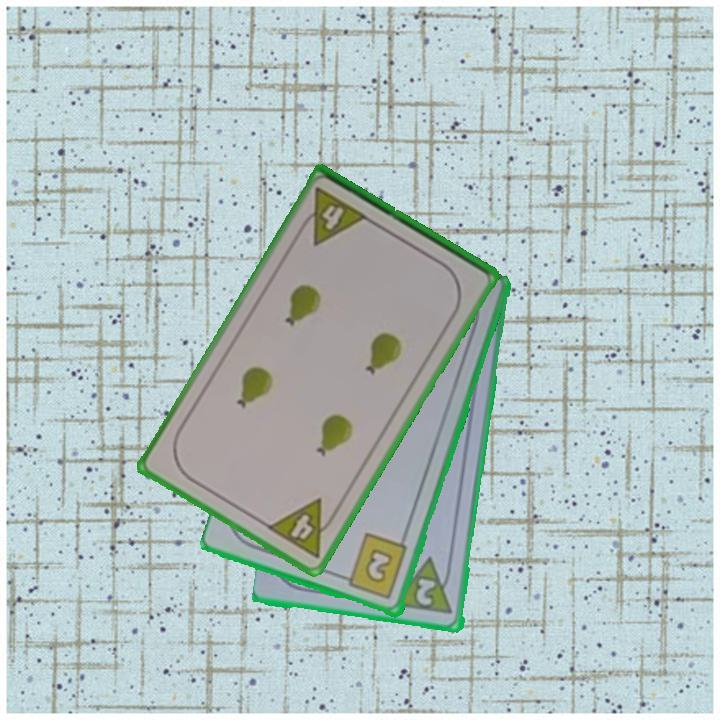2b: (337, 531, 410, 603)
2p: (412, 575, 439, 609)
4p: (263, 495, 342, 562), (294, 184, 371, 249)
